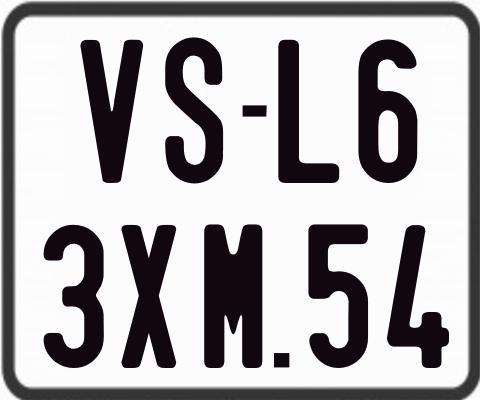3: (44, 222, 108, 371)
4: (385, 224, 449, 369)
5: (305, 223, 365, 369)
6: (356, 37, 416, 185)
L: (275, 38, 339, 186)
M: (204, 222, 267, 372)
S: (165, 37, 225, 189)
V: (79, 38, 143, 186)
X: (119, 224, 174, 372)
